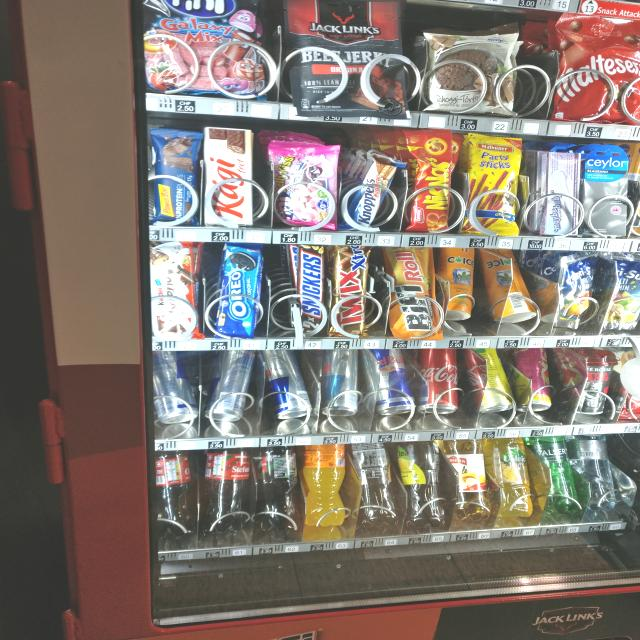bifi_roll__50__4251097402635: (388, 248, 441, 334)
bueno___43__4008400320328: (146, 240, 204, 342)
c-swiss_dosenabisicetea__33__9120025930135: (477, 250, 539, 326), (439, 245, 477, 317)
caferoyal_classicmacchiato__33__7617014164487: (571, 348, 614, 414)
caprisun_multivitamin__20__4000177605004: (556, 248, 596, 328), (601, 253, 640, 330)
coke__dose_33__54491472: (420, 346, 462, 414)
coke__flasche_50__54491472: (203, 448, 258, 530), (257, 446, 303, 536), (152, 449, 193, 540)
fanta___50__40822938: (302, 441, 352, 527)
fini_galaxymix_packung_100_1_8410525150364: (142, 0, 272, 102)
fini_jellykisses_packung_80_1_8410525116704: (272, 139, 341, 227)
fuse_lemon__50__5449000235947: (395, 438, 450, 525)
fuse_lemon_dose_33__5449000235947: (468, 348, 519, 412)
fuse_peach__50__5449000236623: (352, 442, 404, 526)
jacklinks_beefjerkyorginal__25__4047751730219: (290, 0, 406, 113)
kagi___50__7610046000259: (204, 127, 256, 227)
knoppers_riegel____4035800488808: (351, 153, 400, 231)
lorenz_nicnacs__40__4018077798818: (407, 127, 458, 232)
malburner_partysticks__40__7610200279682: (464, 129, 524, 235)
maltesers___100__5000159023061: (557, 13, 640, 118)
oreo___66__84100733: (213, 240, 260, 339)
powerbar_proteinplusschoko__55__4029679520028: (153, 127, 205, 227)
ramseier_schorle__50__7610057012456: (440, 438, 497, 520)
redbull___33__90162909: (204, 349, 260, 426), (151, 350, 203, 424), (363, 348, 420, 414), (267, 349, 315, 417), (320, 348, 362, 414)
snickers___50__5000159461122: (292, 240, 333, 338)
tiki_himbeer_brause__50__00000000009342: (514, 346, 558, 412)
twix___50__5000159459228: (330, 242, 370, 334)
valser_classic__50__76404160: (532, 436, 582, 511)
valser_still__50__7610335002575: (576, 432, 623, 512)
volvic_pinapple__50__305764335648: (482, 435, 536, 520)
